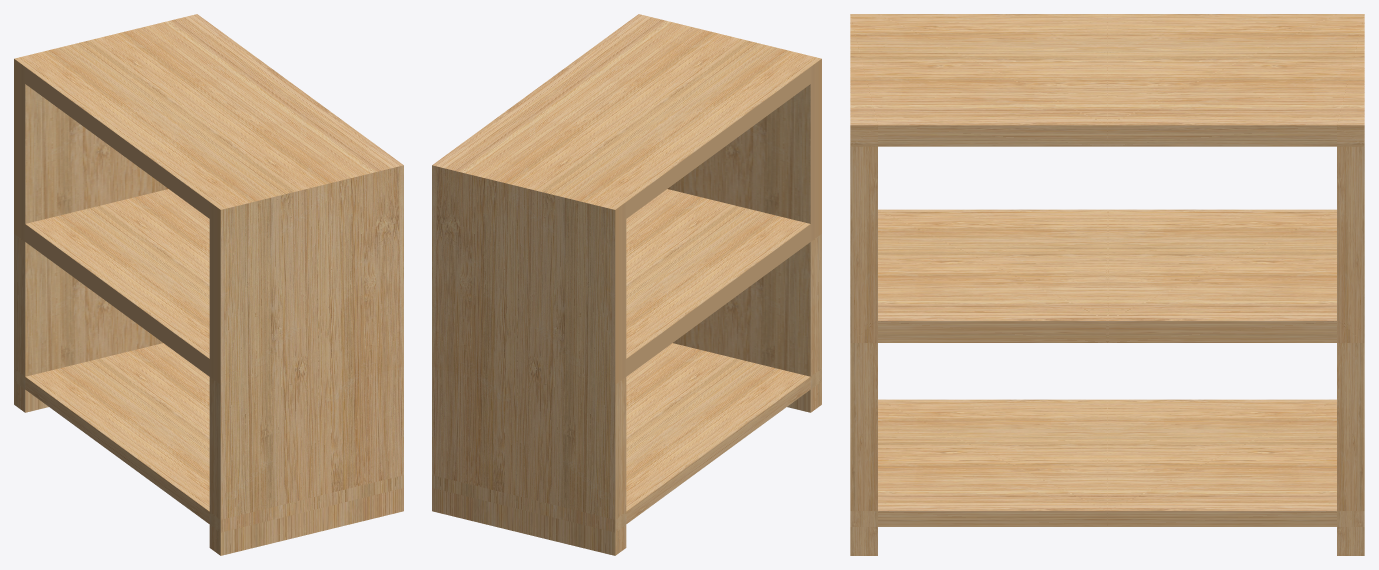
Rendered from Comoda_Dec.fbx.
The picture shows the model from 3 angles, left to right: view 1: azimuth 30°, elevation 25°; view 2: azimuth 150°, elevation 25°; view 3: azimuth 270°, elevation 25°; orthographic projection. The views are drawn at different scales.
Visible parts, largest first — view 1: Cube; view 2: Cube; view 3: Cube.
Part boxes in pixels (x1,y1,x2,y2): Cube: [14, 14, 403, 555]; Cube: [432, 14, 821, 555]; Cube: [850, 14, 1364, 555].
Bounding box in the file's own units: 367 × 662 × 717.
1 material, 1 textured.
